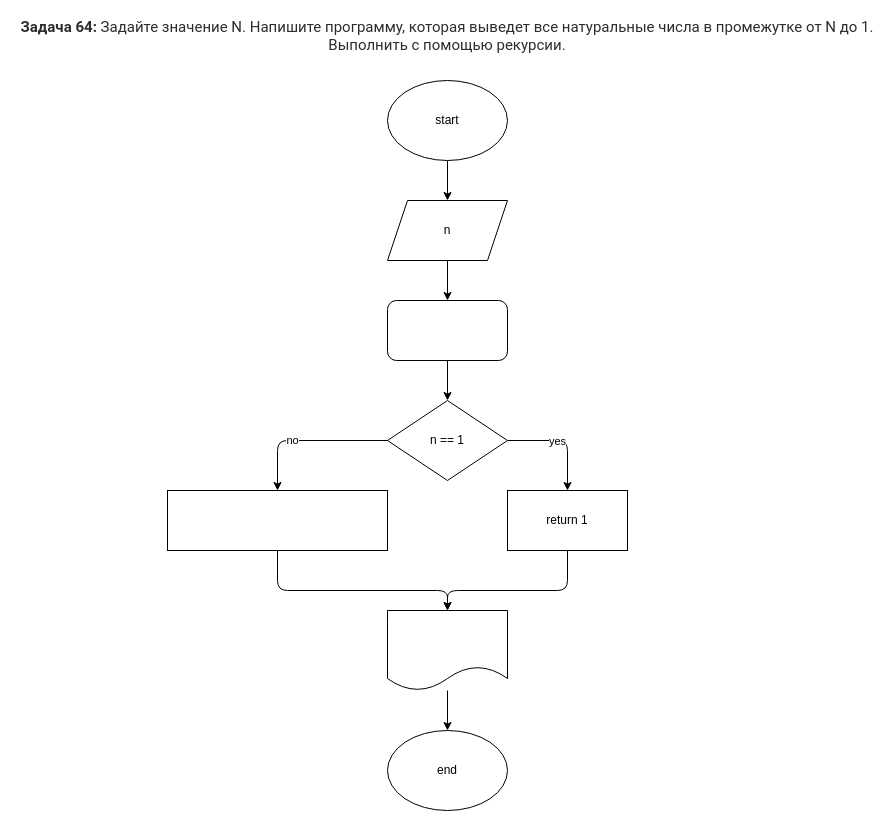
The diagram is 894 pixels wide and 828 high, and some of its shapes have lost their labels. The box of each missing label's shape, as (x1, y1, x2, y2) in pixels:
print RecursiveNumbers n: (386, 610, 508, 690)
RecursiveNumbers: (386, 300, 508, 360)
return n + RecursiveNumbers( n - 1): (166, 490, 388, 550)
